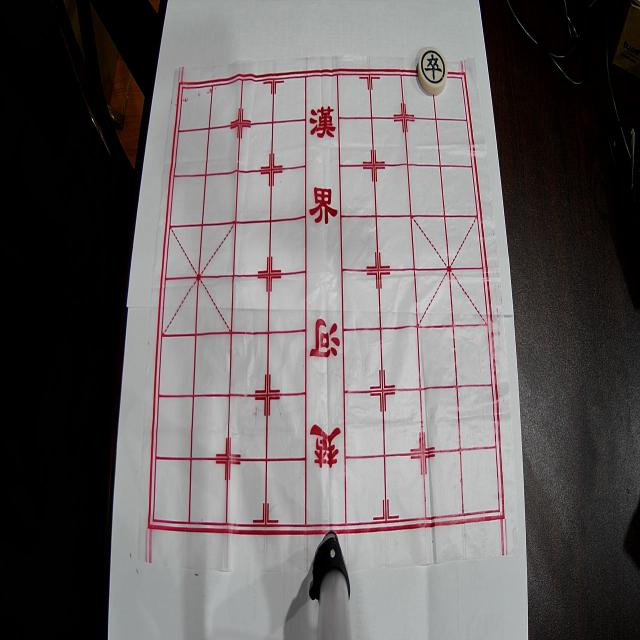black-soldier: (418, 46, 447, 94)
